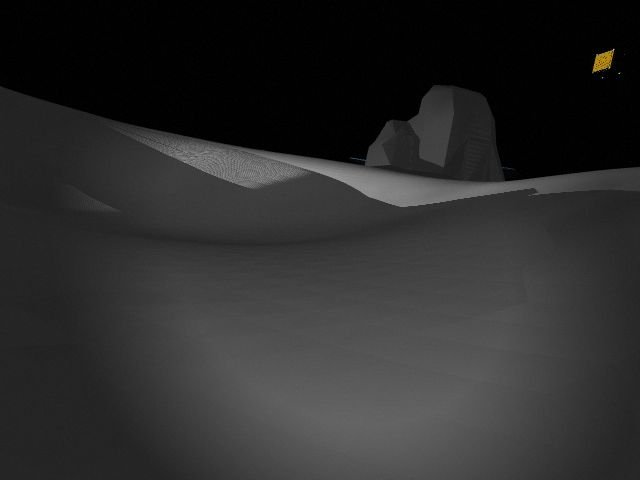cubesat: (583, 43, 632, 86)
